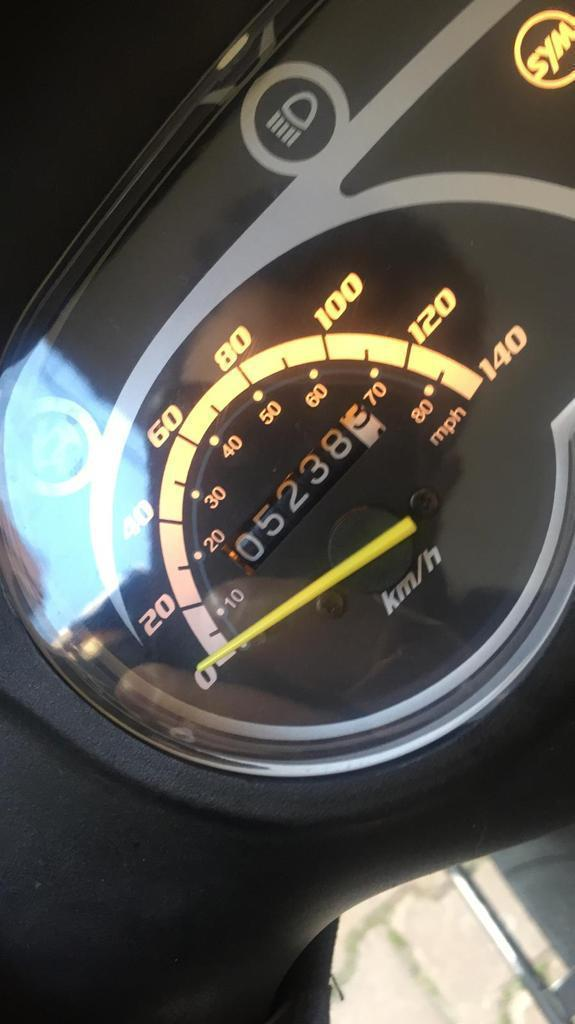0: (233, 532, 264, 562), (227, 435, 244, 452), (213, 483, 226, 503), (268, 401, 282, 419), (214, 528, 224, 546)
2: (275, 478, 309, 514)
3: (299, 453, 329, 485), (341, 401, 372, 431)
4: (219, 442, 233, 459)
5: (253, 503, 283, 535), (258, 408, 272, 426)
8: (318, 428, 350, 459)
odometer: (213, 398, 393, 582)
